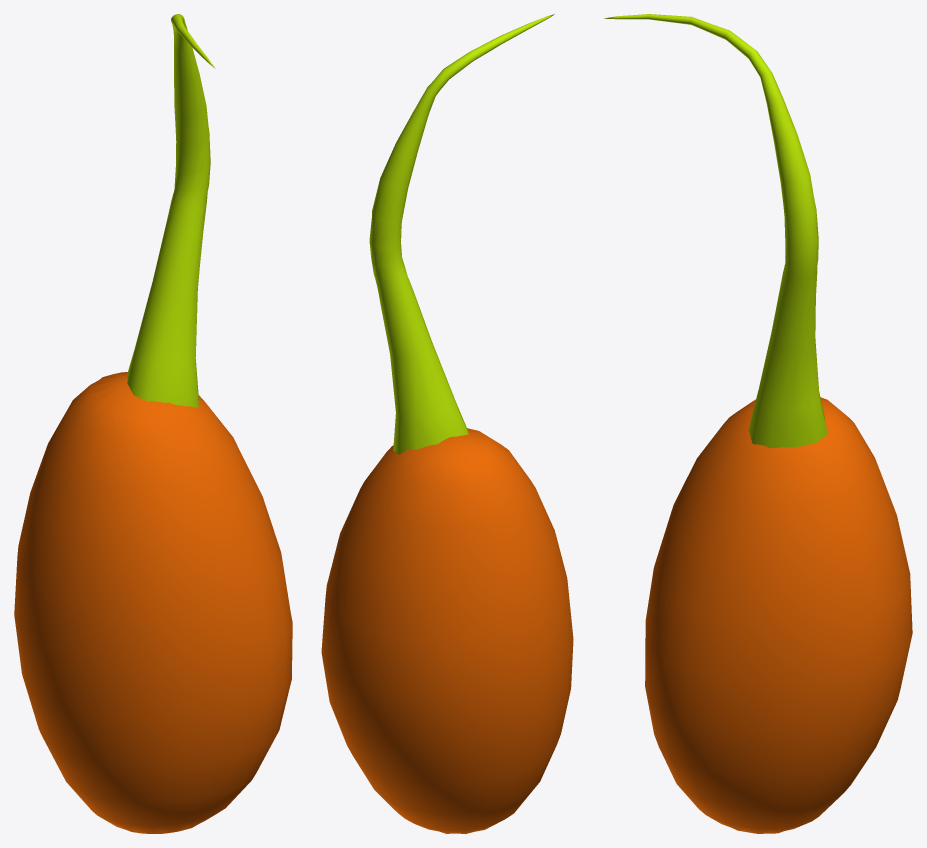
The model's file is BES SEED SDM NEW.fbx.
3 renders of one model, left to right at view 1: azimuth 30°, elevation 25°; view 2: azimuth 150°, elevation 25°; view 3: azimuth 270°, elevation 25°, orthographic. The views are drawn at different scales.
Parts seen in each view (by area): view 1: Sphere, Cylinder; view 2: Sphere, Cylinder; view 3: Sphere, Cylinder.
Boxes of the visible parts, x1,y1,x2,y2 form: Sphere: (14, 372, 292, 833); Cylinder: (126, 14, 215, 408); Sphere: (321, 428, 573, 833); Cylinder: (369, 14, 554, 454); Sphere: (645, 397, 912, 833); Cylinder: (604, 14, 827, 448).
Size of the model in its own units: 113 by 381 by 134.
